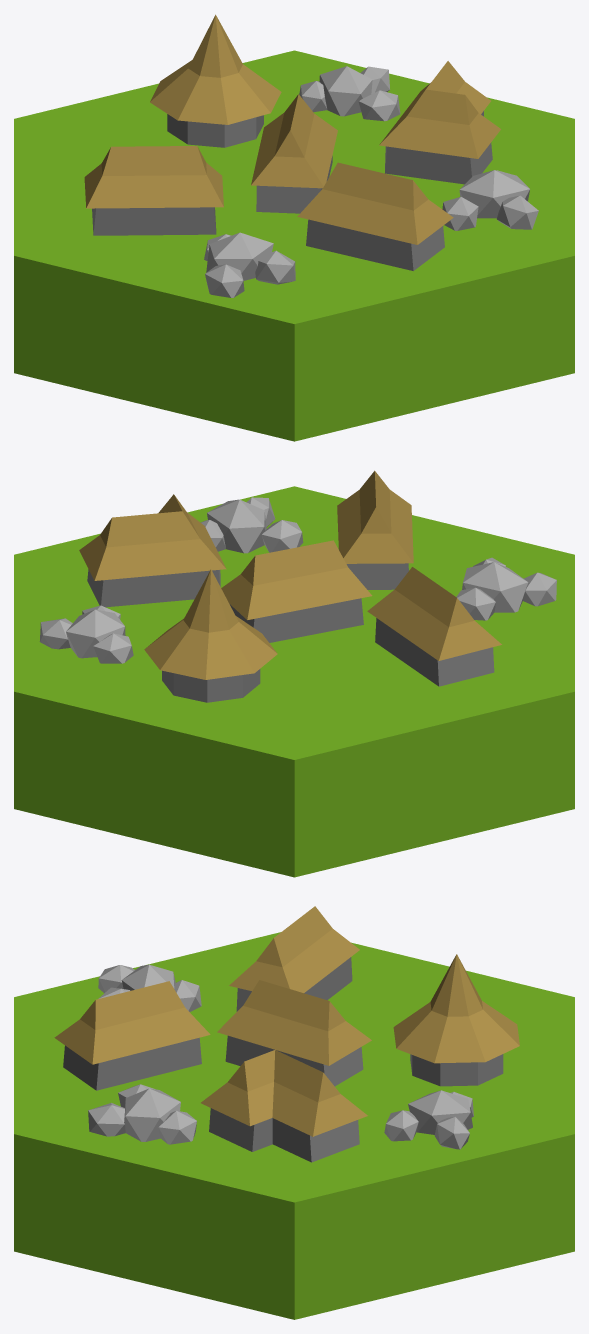
The model's file is Casas_Rocoso_5.fbx.
3 renders of one model, top to bottom at view 1: azimuth 30°, elevation 25°; view 2: azimuth 150°, elevation 25°; view 3: azimuth 270°, elevation 25°, orthographic.
Visible parts, largest first — view 1: Casas_Rocoso_5; view 2: Casas_Rocoso_5; view 3: Casas_Rocoso_5.
Boxes of the visible parts, x1,y1,x2,y2 form: Casas_Rocoso_5: [14, 14, 574, 441]; Casas_Rocoso_5: [14, 470, 574, 877]; Casas_Rocoso_5: [14, 906, 574, 1319].
Bounding box in the file's own units: 200 × 78.5 × 173.
